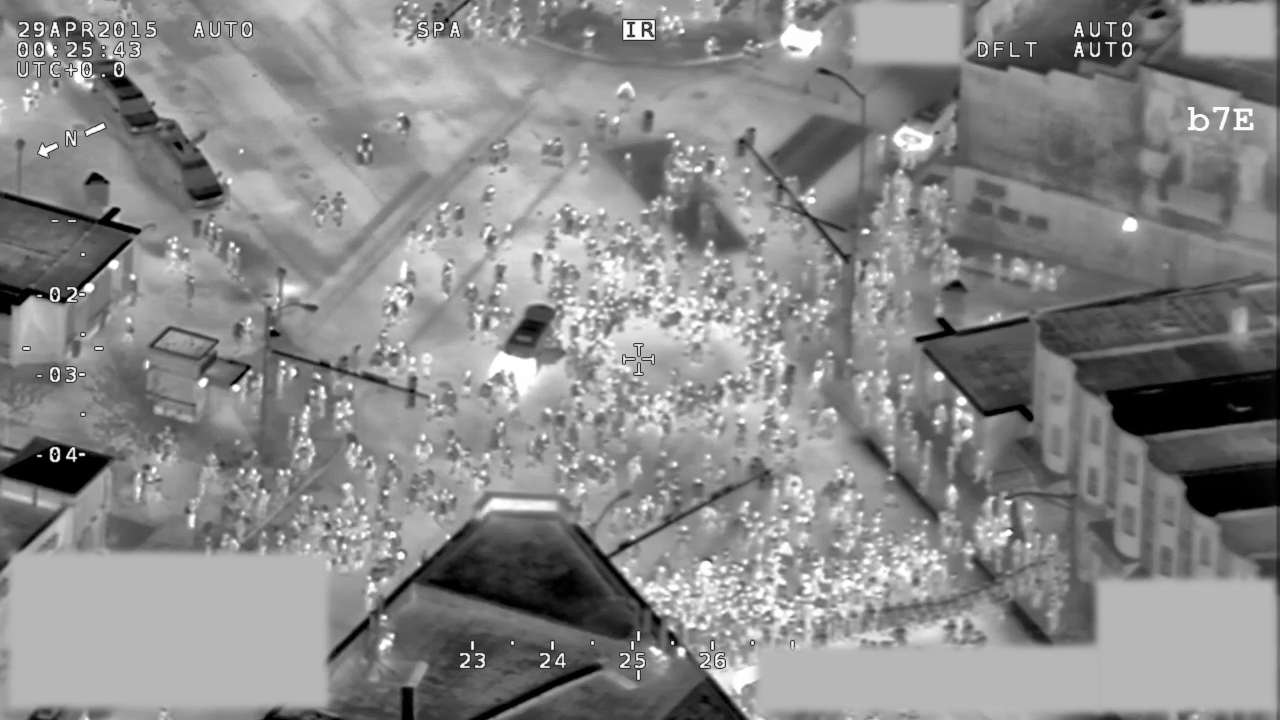vehicle: (141, 123, 232, 216), (482, 299, 568, 392), (41, 10, 120, 92), (881, 95, 958, 173), (89, 62, 163, 143), (775, 1, 848, 62)
